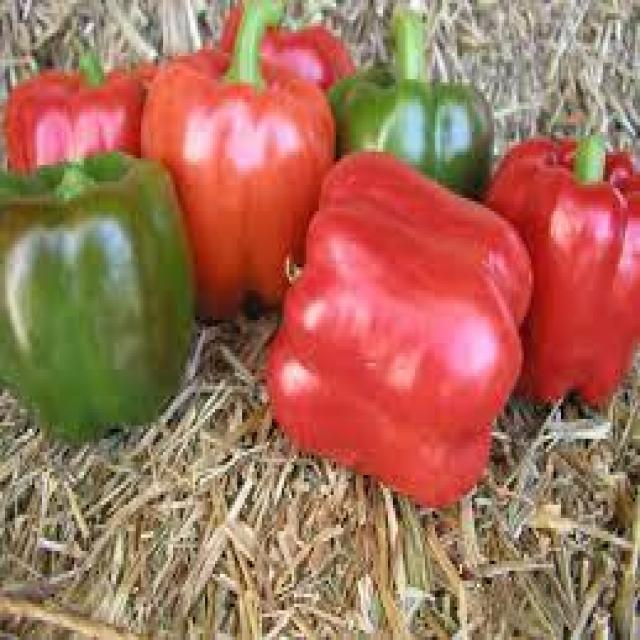pepper: (266, 149, 531, 507), (0, 152, 196, 432), (144, 49, 336, 308), (487, 138, 640, 400), (340, 28, 494, 197), (6, 59, 147, 168)
